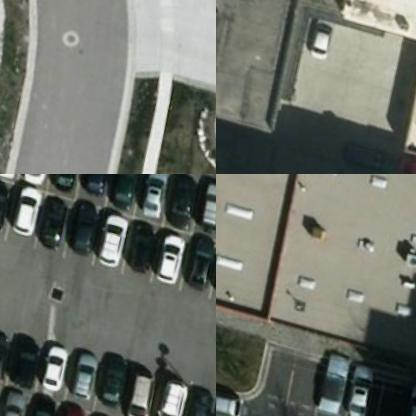car: (304, 346, 350, 415), (30, 334, 72, 400), (144, 219, 185, 284), (4, 324, 45, 389), (90, 202, 130, 268), (58, 340, 98, 405), (88, 348, 128, 413), (3, 176, 42, 242), (333, 132, 395, 173), (31, 182, 70, 247), (60, 193, 99, 258), (119, 212, 158, 277), (179, 229, 215, 295), (116, 363, 158, 415), (160, 174, 201, 223), (146, 369, 188, 415), (173, 370, 215, 415), (339, 363, 375, 415), (131, 174, 173, 215), (303, 14, 338, 60), (102, 174, 144, 207), (216, 371, 246, 415), (192, 174, 215, 231), (17, 391, 58, 415), (71, 174, 113, 197), (0, 313, 13, 380), (0, 174, 13, 233), (204, 230, 215, 297), (388, 147, 415, 173), (0, 391, 29, 415), (41, 174, 83, 189), (398, 378, 415, 415)
